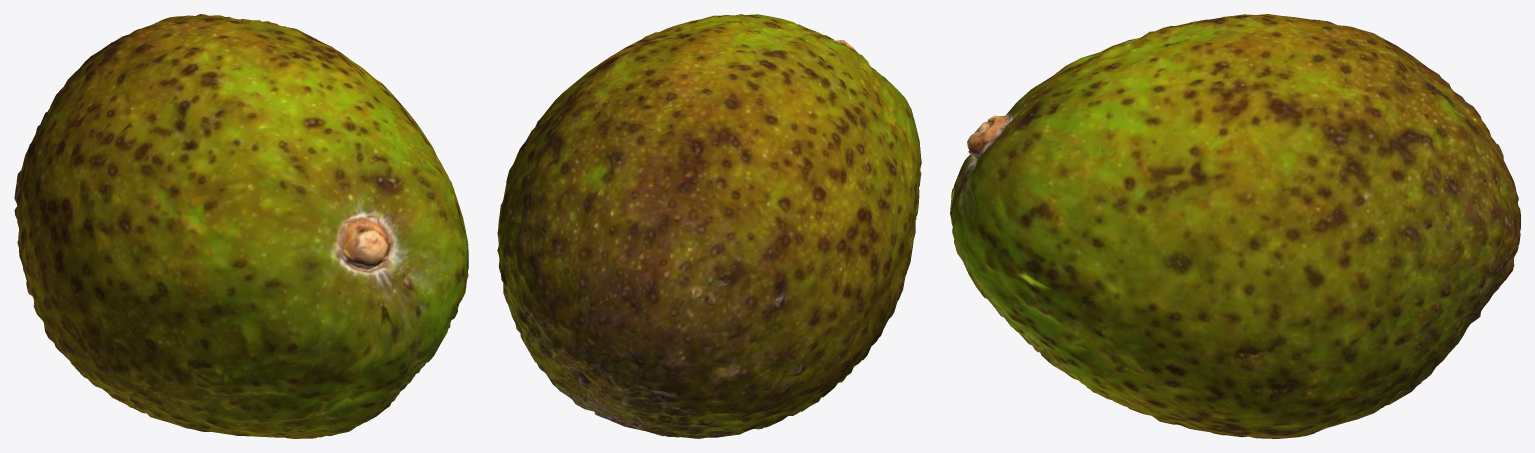
The model's file is avocado.glb.
The picture shows the model from 3 angles, left to right: view 1: azimuth 30°, elevation 25°; view 2: azimuth 150°, elevation 25°; view 3: azimuth 270°, elevation 25°; orthographic projection. The views are drawn at different scales.
Visible parts, largest first — view 1: avocado; view 2: avocado; view 3: avocado.
Part boxes in pixels (x1,y1,x2,y2): avocado: (14,14,468,438); avocado: (497,14,921,438); avocado: (950,14,1520,438).
Bounding box in the file's own units: 0.0864 × 0.0872 × 0.1181.
Materials: 1 (1 with a texture image).
